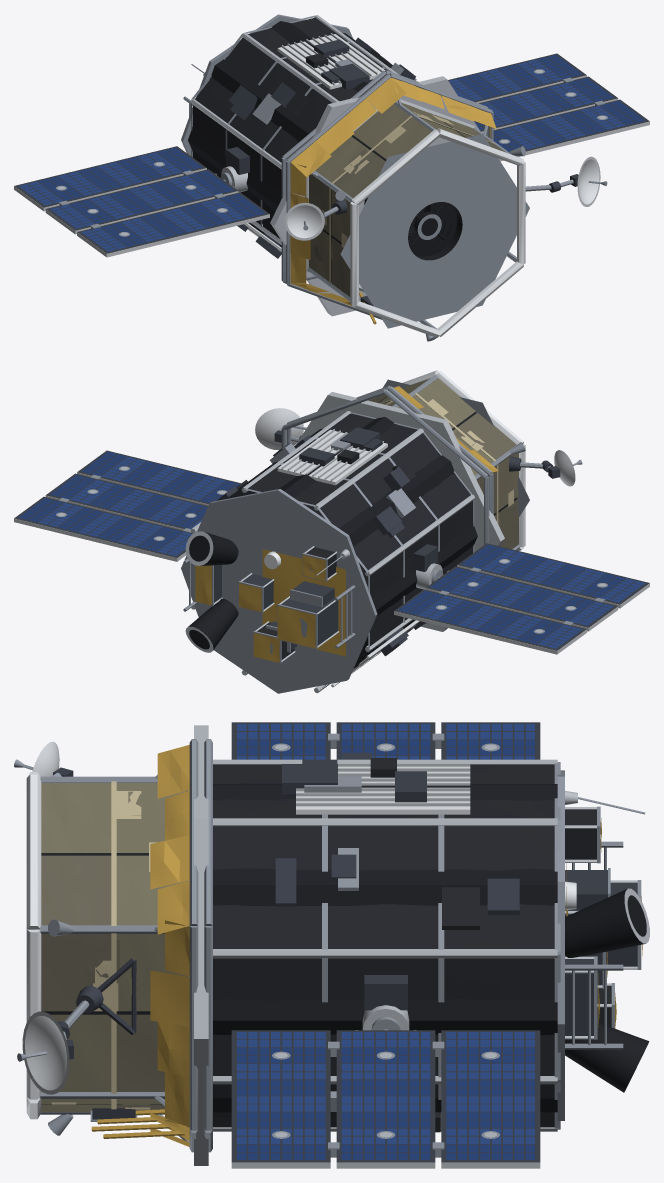
File: worldview-1.glb
The picture shows the model from 3 angles, top to bottom: view 1: azimuth 30°, elevation 25°; view 2: azimuth 150°, elevation 25°; view 3: azimuth 270°, elevation 25°; orthographic projection. The views are drawn at different scales.
Parts seen in each view (by area): view 1: body, foil, solar-panel; view 2: body, foil, solar-panel; view 3: body, foil, solar-panel.
Boxes of the visible parts, box(x1,y1,x2,y2) form: body: box(14, 14, 649, 341); foil: box(193, 17, 504, 324); solar-panel: box(18, 55, 645, 251); body: box(14, 370, 649, 693); foil: box(195, 378, 518, 687); solar-panel: box(18, 452, 645, 648); body: box(14, 722, 649, 1168); foil: box(41, 745, 642, 1146); solar-panel: box(237, 724, 534, 1159).
Bounding box in the file's own units: 7.16 × 3.12 × 4.37.
